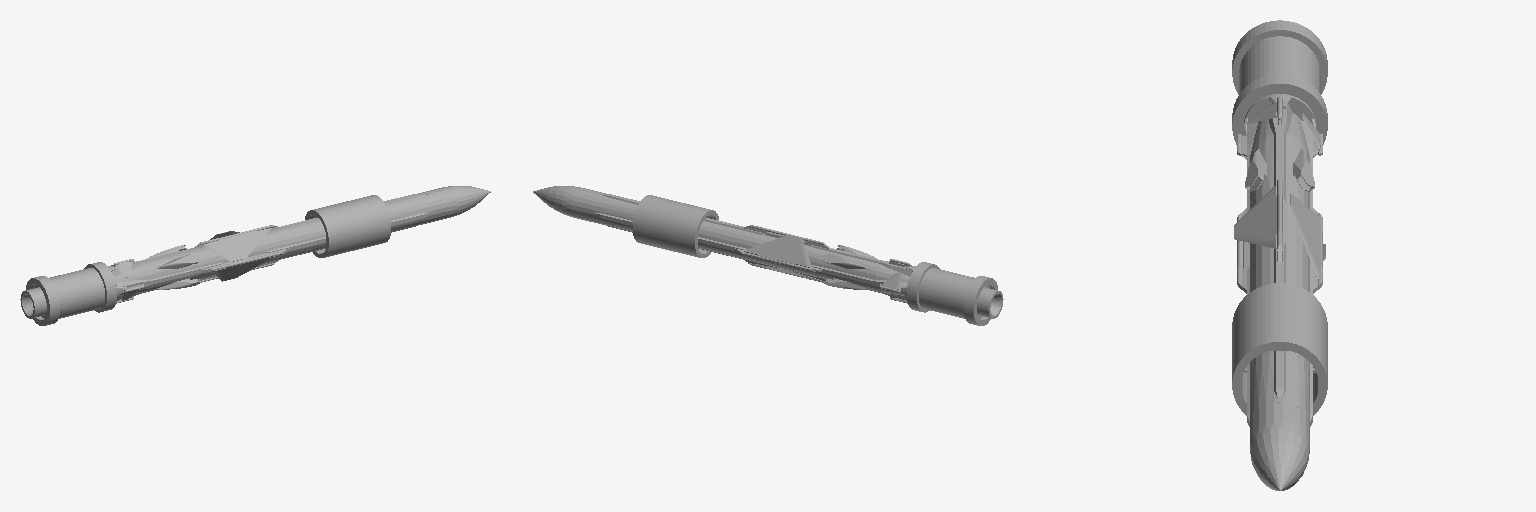
--- What the picture shows (computed from the rendered views, not written in the file) ---
The picture shows the robot from 3 angles, left to right: view 1: azimuth 30°, elevation 25°; view 2: azimuth 150°, elevation 25°; view 3: azimuth 270°, elevation 25°; orthographic projection.
Robot: exocet_mm40b3 — 18 links, 17 joints (12 revolute, 5 fixed); root link base_link; default pose: every joint at zero.
Links seen in each view (by area): view 1: base_link, Booster_1, Holder_2, Holder_1, Wing1_1, Wing1_4; view 2: base_link, Booster_1, Holder_4, Wing1_2, Holder_1; view 3: base_link, Booster_1, Holder_1, Wing1_1, Holder_2, Holder_4, Wing1_2.
Link boxes in pixels (box(x1,y1,x2,y2)): base_link: box(112, 186, 490, 299); Booster_1: box(20, 262, 126, 325); Holder_2: box(324, 210, 390, 256); Holder_1: box(308, 195, 387, 225); Wing1_1: box(204, 228, 271, 261); Wing1_4: box(212, 255, 277, 281); base_link: box(533, 186, 911, 299); Booster_1: box(899, 262, 1003, 325); Holder_4: box(633, 210, 699, 256); Wing1_2: box(744, 235, 811, 267); Holder_1: box(636, 195, 715, 225); base_link: box(1237, 103, 1322, 490); Booster_1: box(1232, 20, 1327, 157); Holder_1: box(1246, 283, 1313, 359); Wing1_1: box(1234, 184, 1282, 248); Holder_2: box(1232, 296, 1251, 414); Holder_4: box(1308, 296, 1327, 414); Wing1_2: box(1290, 193, 1322, 279).
Size in the robot's own frame: 5.95 by 0.55 by 0.55 metres.
Meshes: 18 distinct files referenced, 18 mesh visuals loaded (18 binary STL).

URDF robot description (exocet_mm40b3):
<?xml version="1.0" ?>
<!-- =================================================================================== -->
<!-- |    This document was autogenerated by xacro from src/exocet_mm40b3_description/urdf/exocet_mm40b3.xacro | -->
<!-- |    EDITING THIS FILE BY HAND IS NOT RECOMMENDED                                 | -->
<!-- =================================================================================== -->
<robot name="exocet_mm40b3">
  <material name="silver">
    <color rgba="0.700 0.700 0.700 1.000"/>
  </material>
  <transmission name="fins_fold1_tran">
    <type>transmission_interface/SimpleTransmission</type>
    <joint name="fins_fold1">
      <hardwareInterface>hardware_interface/EffortJointInterface</hardwareInterface>
    </joint>
    <actuator name="fins_fold1_actr">
      <hardwareInterface>hardware_interface/EffortJointInterface</hardwareInterface>
      <mechanicalReduction>1</mechanicalReduction>
    </actuator>
  </transmission>
  <transmission name="fins_rev1_tran">
    <type>transmission_interface/SimpleTransmission</type>
    <joint name="fins_rev1">
      <hardwareInterface>hardware_interface/EffortJointInterface</hardwareInterface>
    </joint>
    <actuator name="fins_rev1_actr">
      <hardwareInterface>hardware_interface/EffortJointInterface</hardwareInterface>
      <mechanicalReduction>1</mechanicalReduction>
    </actuator>
  </transmission>
  <transmission name="fins_fold4_tran">
    <type>transmission_interface/SimpleTransmission</type>
    <joint name="fins_fold4">
      <hardwareInterface>hardware_interface/EffortJointInterface</hardwareInterface>
    </joint>
    <actuator name="fins_fold4_actr">
      <hardwareInterface>hardware_interface/EffortJointInterface</hardwareInterface>
      <mechanicalReduction>1</mechanicalReduction>
    </actuator>
  </transmission>
  <transmission name="fins_rev4_tran">
    <type>transmission_interface/SimpleTransmission</type>
    <joint name="fins_rev4">
      <hardwareInterface>hardware_interface/EffortJointInterface</hardwareInterface>
    </joint>
    <actuator name="fins_rev4_actr">
      <hardwareInterface>hardware_interface/EffortJointInterface</hardwareInterface>
      <mechanicalReduction>1</mechanicalReduction>
    </actuator>
  </transmission>
  <transmission name="fins_fold3_tran">
    <type>transmission_interface/SimpleTransmission</type>
    <joint name="fins_fold3">
      <hardwareInterface>hardware_interface/EffortJointInterface</hardwareInterface>
    </joint>
    <actuator name="fins_fold3_actr">
      <hardwareInterface>hardware_interface/EffortJointInterface</hardwareInterface>
      <mechanicalReduction>1</mechanicalReduction>
    </actuator>
  </transmission>
  <transmission name="fins_rev3_tran">
    <type>transmission_interface/SimpleTransmission</type>
    <joint name="fins_rev3">
      <hardwareInterface>hardware_interface/EffortJointInterface</hardwareInterface>
    </joint>
    <actuator name="fins_rev3_actr">
      <hardwareInterface>hardware_interface/EffortJointInterface</hardwareInterface>
      <mechanicalReduction>1</mechanicalReduction>
    </actuator>
  </transmission>
  <transmission name="fins_fold2_tran">
    <type>transmission_interface/SimpleTransmission</type>
    <joint name="fins_fold2">
      <hardwareInterface>hardware_interface/EffortJointInterface</hardwareInterface>
    </joint>
    <actuator name="fins_fold2_actr">
      <hardwareInterface>hardware_interface/EffortJointInterface</hardwareInterface>
      <mechanicalReduction>1</mechanicalReduction>
    </actuator>
  </transmission>
  <transmission name="fins_rev2_tran">
    <type>transmission_interface/SimpleTransmission</type>
    <joint name="fins_rev2">
      <hardwareInterface>hardware_interface/EffortJointInterface</hardwareInterface>
    </joint>
    <actuator name="fins_rev2_actr">
      <hardwareInterface>hardware_interface/EffortJointInterface</hardwareInterface>
      <mechanicalReduction>1</mechanicalReduction>
    </actuator>
  </transmission>
  <transmission name="wings_fold1_tran">
    <type>transmission_interface/SimpleTransmission</type>
    <joint name="wings_fold1">
      <hardwareInterface>hardware_interface/EffortJointInterface</hardwareInterface>
    </joint>
    <actuator name="wings_fold1_actr">
      <hardwareInterface>hardware_interface/EffortJointInterface</hardwareInterface>
      <mechanicalReduction>1</mechanicalReduction>
    </actuator>
  </transmission>
  <transmission name="wings_fold2_tran">
    <type>transmission_interface/SimpleTransmission</type>
    <joint name="wings_fold2">
      <hardwareInterface>hardware_interface/EffortJointInterface</hardwareInterface>
    </joint>
    <actuator name="wings_fold2_actr">
      <hardwareInterface>hardware_interface/EffortJointInterface</hardwareInterface>
      <mechanicalReduction>1</mechanicalReduction>
    </actuator>
  </transmission>
  <transmission name="wings_fold3_tran">
    <type>transmission_interface/SimpleTransmission</type>
    <joint name="wings_fold3">
      <hardwareInterface>hardware_interface/EffortJointInterface</hardwareInterface>
    </joint>
    <actuator name="wings_fold3_actr">
      <hardwareInterface>hardware_interface/EffortJointInterface</hardwareInterface>
      <mechanicalReduction>1</mechanicalReduction>
    </actuator>
  </transmission>
  <transmission name="wings_fold4_tran">
    <type>transmission_interface/SimpleTransmission</type>
    <joint name="wings_fold4">
      <hardwareInterface>hardware_interface/EffortJointInterface</hardwareInterface>
    </joint>
    <actuator name="wings_fold4_actr">
      <hardwareInterface>hardware_interface/EffortJointInterface</hardwareInterface>
      <mechanicalReduction>1</mechanicalReduction>
    </actuator>
  </transmission>
  <!-- <gazebo>
    <plugin filename="libgazebo_ros_control.so" name="exocet_mm40b3_controller">
      <robotNamespace>exocet_mm40b3_controller</robotNamespace>
      <robotSimType>gazebo_ros_control/DefaultRobotHWSim</robotSimType>
    </plugin>
  </gazebo> -->
  <gazebo reference="base_link">
    <material>Gazebo/Silver</material>
    <mu1>0.2</mu1>
    <mu2>0.2</mu2>
    <selfCollide>true</selfCollide>
    <gravity>true</gravity>
  </gazebo>
  <gazebo reference="Fin_1">
    <material>Gazebo/Silver</material>
    <mu1>0.2</mu1>
    <mu2>0.2</mu2>
    <selfCollide>true</selfCollide>
  </gazebo>
  <gazebo reference="FinHolder_1">
    <material>Gazebo/Silver</material>
    <mu1>0.2</mu1>
    <mu2>0.2</mu2>
    <selfCollide>true</selfCollide>
  </gazebo>
  <gazebo reference="Fin_4">
    <material>Gazebo/Silver</material>
    <mu1>0.2</mu1>
    <mu2>0.2</mu2>
    <selfCollide>true</selfCollide>
  </gazebo>
  <gazebo reference="FinHolder_4">
    <material>Gazebo/Silver</material>
    <mu1>0.2</mu1>
    <mu2>0.2</mu2>
    <selfCollide>true</selfCollide>
  </gazebo>
  <gazebo reference="Fin_3">
    <material>Gazebo/Silver</material>
    <mu1>0.2</mu1>
    <mu2>0.2</mu2>
    <selfCollide>true</selfCollide>
  </gazebo>
  <gazebo reference="FinHolder_3">
    <material>Gazebo/Silver</material>
    <mu1>0.2</mu1>
    <mu2>0.2</mu2>
    <selfCollide>true</selfCollide>
  </gazebo>
  <gazebo reference="Fin_2">
    <material>Gazebo/Silver</material>
    <mu1>0.2</mu1>
    <mu2>0.2</mu2>
    <selfCollide>true</selfCollide>
  </gazebo>
  <gazebo reference="FinHolder_2">
    <material>Gazebo/Silver</material>
    <mu1>0.2</mu1>
    <mu2>0.2</mu2>
    <selfCollide>true</selfCollide>
  </gazebo>
  <gazebo reference="Wing1_1">
    <material>Gazebo/Silver</material>
    <mu1>0.2</mu1>
    <mu2>0.2</mu2>
    <selfCollide>true</selfCollide>
  </gazebo>
  <gazebo reference="Booster_1">
    <material>Gazebo/Silver</material>
    <mu1>0.2</mu1>
    <mu2>0.2</mu2>
    <selfCollide>true</selfCollide>
  </gazebo>
  <gazebo reference="Wing1_2">
    <material>Gazebo/Silver</material>
    <mu1>0.2</mu1>
    <mu2>0.2</mu2>
    <selfCollide>true</selfCollide>
  </gazebo>
  <gazebo reference="Wing1_3">
    <material>Gazebo/Silver</material>
    <mu1>0.2</mu1>
    <mu2>0.2</mu2>
    <selfCollide>true</selfCollide>
  </gazebo>
  <gazebo reference="Wing1_4">
    <material>Gazebo/Silver</material>
    <mu1>0.2</mu1>
    <mu2>0.2</mu2>
    <selfCollide>true</selfCollide>
  </gazebo>
  <gazebo reference="Holder_1">
    <material>Gazebo/Silver</material>
    <mu1>0.2</mu1>
    <mu2>0.2</mu2>
    <!-- <selfCollide>true</selfCollide> -->
    <selfCollide>false</selfCollide>
  </gazebo>
  <gazebo reference="Holder_2">
    <material>Gazebo/Silver</material>
    <mu1>0.2</mu1>
    <mu2>0.2</mu2>
    <!-- <selfCollide>true</selfCollide> -->
    <selfCollide>false</selfCollide>
  </gazebo>
  <gazebo reference="Holder_3">
    <material>Gazebo/Silver</material>
    <mu1>0.2</mu1>
    <mu2>0.2</mu2>
    <!-- <selfCollide>true</selfCollide> -->
    <selfCollide>false</selfCollide>
  </gazebo>
  <gazebo reference="Holder_4">
    <material>Gazebo/Silver</material>
    <mu1>0.2</mu1>
    <mu2>0.2</mu2>
    <!-- <selfCollide>true</selfCollide> -->
    <selfCollide>false</selfCollide>
  </gazebo>
  <gazebo reference="booster_fixing">
    <preserveFixedJoint>true</preserveFixedJoint>
  </gazebo>
  <gazebo reference="HolderJoint1">
    <preserveFixedJoint>true</preserveFixedJoint>
  </gazebo>
  <gazebo reference="HolderJoint2">
    <preserveFixedJoint>true</preserveFixedJoint>
  </gazebo>
  <gazebo reference="HolderJoint3">
    <preserveFixedJoint>true</preserveFixedJoint>
  </gazebo>
  <gazebo reference="HolderJoint4">
    <preserveFixedJoint>true</preserveFixedJoint>
  </gazebo>
  <link name="base_link">
    <inertial>
      <origin rpy="0 0 0" xyz="0.6111487363868037 -9.76514281557685e-10 9.765135572714681e-10"/>
      <mass value="564.9695328358481"/>
      <inertia ixx="13.560396" ixy="-0.0" ixz="0.0" iyy="1088.286862" iyz="0.0" izz="1088.286862"/>
    </inertial>
    <visual>
      <origin rpy="0 0 0" xyz="0 0 0"/>
      <geometry>
        <mesh filename="package://exocet_mm40b3_description/meshes/base_link.stl" scale="0.001 0.001 0.001"/>
      </geometry>
      <material name="silver"/>
    </visual>
    <collision>
      <origin rpy="0 0 0" xyz="0 0 0"/>
      <geometry>
        <mesh filename="package://exocet_mm40b3_description/meshes/base_link.stl" scale="0.001 0.001 0.001"/>
      </geometry>
    </collision>
  </link>
  <link name="Fin_1">
    <inertial>
      <origin rpy="0 0 0" xyz="-0.01567003850913462 -0.05105851626061409 -0.03315778654302706"/>
      <mass value="1.1914641784690367"/>
      <inertia ixx="0.003045" ixy="-0.000707" ixz="-0.000459" iyy="0.003419" iyz="-0.00136" izz="0.004631"/>
    </inertial>
    <visual>
      <origin rpy="0 0 0" xyz="1.508834 0.0 -0.235"/>
      <geometry>
        <mesh filename="package://exocet_mm40b3_description/meshes/Fin_1.stl" scale="0.001 0.001 0.001"/>
      </geometry>
      <material name="silver"/>
    </visual>
    <collision>
      <origin rpy="0 0 0" xyz="1.508834 0.0 -0.235"/>
      <geometry>
        <mesh filename="package://exocet_mm40b3_description/meshes/Fin_1.stl" scale="0.001 0.001 0.001"/>
      </geometry>
    </collision>
  </link>
  <link name="FinHolder_1">
    <inertial>
      <origin rpy="0 0 0" xyz="0.011989934287514492 3.4948123536970334e-06 0.035203705025338594"/>
      <mass value="0.6136418967408529"/>
      <inertia ixx="0.000219" ixy="-0.0" ixz="3.8e-05" iyy="0.004162" iyz="-0.0" izz="0.003989"/>
    </inertial>
    <visual>
      <origin rpy="0 0 0" xyz="1.508834 0.0 -0.18"/>
      <geometry>
        <mesh filename="package://exocet_mm40b3_description/meshes/FinHolder_1.stl" scale="0.001 0.001 0.001"/>
      </geometry>
      <material name="silver"/>
    </visual>
    <collision>
      <origin rpy="0 0 0" xyz="1.508834 0.0 -0.18"/>
      <geometry>
        <mesh filename="package://exocet_mm40b3_description/meshes/FinHolder_1.stl" scale="0.001 0.001 0.001"/>
      </geometry>
    </collision>
  </link>
  <link name="Fin_4">
    <inertial>
      <origin rpy="0 0 0" xyz="-0.01567003850913462 0.03315778654302701 -0.05105851430757993"/>
      <mass value="1.1914641784690367"/>
      <inertia ixx="0.003045" ixy="0.000459" ixz="-0.000707" iyy="0.004631" iyz="0.00136" izz="0.003419"/>
    </inertial>
    <visual>
      <origin rpy="0 0 0" xyz="1.508834 0.235 -0.0"/>
      <geometry>
        <mesh filename="package://exocet_mm40b3_description/meshes/Fin_4.stl" scale="0.001 0.001 0.001"/>
      </geometry>
      <material name="silver"/>
    </visual>
    <collision>
      <origin rpy="0 0 0" xyz="1.508834 0.235 -0.0"/>
      <geometry>
        <mesh filename="package://exocet_mm40b3_description/meshes/Fin_4.stl" scale="0.001 0.001 0.001"/>
      </geometry>
    </collision>
  </link>
  <link name="FinHolder_4">
    <inertial>
      <origin rpy="0 0 0" xyz="0.011989934287514492 -0.03520370502533865 3.4967653878920464e-06"/>
      <mass value="0.6136418967408529"/>
      <inertia ixx="0.000219" ixy="-3.8e-05" ixz="-0.0" iyy="0.003989" iyz="0.0" izz="0.004162"/>
    </inertial>
    <visual>
      <origin rpy="0 0 0" xyz="1.508834 0.18 -0.0"/>
      <geometry>
        <mesh filename="package://exocet_mm40b3_description/meshes/FinHolder_4.stl" scale="0.001 0.001 0.001"/>
      </geometry>
      <material name="silver"/>
    </visual>
    <collision>
      <origin rpy="0 0 0" xyz="1.508834 0.18 -0.0"/>
      <geometry>
        <mesh filename="package://exocet_mm40b3_description/meshes/FinHolder_4.stl" scale="0.001 0.001 0.001"/>
      </geometry>
    </collision>
  </link>
  <link name="Fin_3">
    <inertial>
      <origin rpy="0 0 0" xyz="-0.015670038509135065 0.05105822037918793 0.033157788496061325"/>
      <mass value="1.1914641784690367"/>
      <inertia ixx="0.003045" ixy="0.000707" ixz="0.000459" iyy="0.003419" iyz="-0.00136" izz="0.004631"/>
    </inertial>
    <visual>
      <origin rpy="0 0 0" xyz="1.508834 1.7e-05 0.235"/>
      <geometry>
        <mesh filename="package://exocet_mm40b3_description/meshes/Fin_3.stl" scale="0.001 0.001 0.001"/>
      </geometry>
      <material name="silver"/>
    </visual>
    <collision>
      <origin rpy="0 0 0" xyz="1.508834 1.7e-05 0.235"/>
      <geometry>
        <mesh filename="package://exocet_mm40b3_description/meshes/Fin_3.stl" scale="0.001 0.001 0.001"/>
      </geometry>
    </collision>
  </link>
  <link name="FinHolder_3">
    <inertial>
      <origin rpy="0 0 0" xyz="0.011989934287514492 -3.496765387940896e-06 -0.03520370307230428"/>
      <mass value="0.6136418967408529"/>
      <inertia ixx="0.000219" ixy="0.0" ixz="-3.8e-05" iyy="0.004162" iyz="-0.0" izz="0.003989"/>
    </inertial>
    <visual>
      <origin rpy="0 0 0" xyz="1.508834 0.0 0.18"/>
      <geometry>
        <mesh filename="package://exocet_mm40b3_description/meshes/FinHolder_3.stl" scale="0.001 0.001 0.001"/>
      </geometry>
      <material name="silver"/>
    </visual>
    <collision>
      <origin rpy="0 0 0" xyz="1.508834 0.0 0.18"/>
      <geometry>
        <mesh filename="package://exocet_mm40b3_description/meshes/FinHolder_3.stl" scale="0.001 0.001 0.001"/>
      </geometry>
    </collision>
  </link>
  <link name="Fin_2">
    <inertial>
      <origin rpy="0 0 0" xyz="-0.01567003850913551 -0.033157788496061325 0.051058222332222306"/>
      <mass value="1.1914641784690367"/>
      <inertia ixx="0.003045" ixy="-0.000459" ixz="0.000707" iyy="0.004631" iyz="0.00136" izz="0.003419"/>
    </inertial>
    <visual>
      <origin rpy="0 0 0" xyz="1.508834 -0.235 1.7e-05"/>
      <geometry>
        <mesh filename="package://exocet_mm40b3_description/meshes/Fin_2.stl" scale="0.001 0.001 0.001"/>
      </geometry>
      <material name="silver"/>
    </visual>
    <collision>
      <origin rpy="0 0 0" xyz="1.508834 -0.235 1.7e-05"/>
      <geometry>
        <mesh filename="package://exocet_mm40b3_description/meshes/Fin_2.stl" scale="0.001 0.001 0.001"/>
      </geometry>
    </collision>
  </link>
  <link name="FinHolder_2">
    <inertial>
      <origin rpy="0 0 0" xyz="0.011989934287514048 0.035203703072304304 -3.4948123536082156e-06"/>
      <mass value="0.6136418967408529"/>
      <inertia ixx="0.000219" ixy="3.8e-05" ixz="0.0" iyy="0.003989" iyz="0.0" izz="0.004162"/>
    </inertial>
    <visual>
      <origin rpy="0 0 0" xyz="1.508834 -0.18 -0.0"/>
      <geometry>
        <mesh filename="package://exocet_mm40b3_description/meshes/FinHolder_2.stl" scale="0.001 0.001 0.001"/>
      </geometry>
      <material name="silver"/>
    </visual>
    <collision>
      <origin rpy="0 0 0" xyz="1.508834 -0.18 -0.0"/>
      <geometry>
        <mesh filename="package://exocet_mm40b3_description/meshes/FinHolder_2.stl" scale="0.001 0.001 0.001"/>
      </geometry>
    </collision>
  </link>
  <link name="Wing1_1">
    <inertial>
      <origin rpy="0 0 0" xyz="-0.040666207659852904 -0.08074492818224165 -0.05243595001666804"/>
      <mass value="7.941525705671461"/>
      <inertia ixx="0.045859" ixy="-0.016465" ixz="-0.010693" iyy="0.280396" iyz="-0.020713" izz="0.29884"/>
    </inertial>
    <visual>
      <origin rpy="0 0 0" xyz="0.055606 0.0 -0.231018"/>
      <geometry>
        <mesh filename="package://exocet_mm40b3_description/meshes/Wing1_1.stl" scale="0.001 0.001 0.001"/>
      </geometry>
      <material name="silver"/>
    </visual>
    <collision>
      <origin rpy="0 0 0" xyz="0.055606 0.0 -0.231018"/>
      <geometry>
        <mesh filename="package://exocet_mm40b3_description/meshes/Wing1_1.stl" scale="0.001 0.001 0.001"/>
      </geometry>
    </collision>
  </link>
  <link name="Booster_1">
    <inertial>
      <origin rpy="0 0 0" xyz="-0.5309883305776795 4.1152716735485273e-10 1.8088332072416784e-09"/>
      <mass value="138.76341026969325"/>
      <inertia ixx="6.064544" ixy="-0.0" ixz="-0.0" iyy="17.450475" iyz="0.0" izz="17.450475"/>
    </inertial>
    <visual>
      <origin rpy="0 0 0" xyz="1.688846 0.0 -0.0"/>
      <geometry>
        <mesh filename="package://exocet_mm40b3_description/meshes/Booster_1.stl" scale="0.001 0.001 0.001"/>
      </geometry>
      <material name="silver"/>
    </visual>
    <collision>
      <origin rpy="0 0 0" xyz="1.688846 0.0 -0.0"/>
      <geometry>
        <mesh filename="package://exocet_mm40b3_description/meshes/Booster_1.stl" scale="0.001 0.001 0.001"/>
      </geometry>
    </collision>
  </link>
  <link name="Wing1_2">
    <inertial>
      <origin rpy="0 0 0" xyz="-0.040666207659852974 -0.05189131293468413 0.07990625761429629"/>
      <mass value="7.941525705671461"/>
      <inertia ixx="0.045859" ixy="-0.010693" ixz="0.016465" iyy="0.29884" iyz="0.020713" izz="0.280396"/>
    </inertial>
    <visual>
      <origin rpy="0 0 0" xyz="0.055606 -0.231018 -0.0"/>
      <geometry>
        <mesh filename="package://exocet_mm40b3_description/meshes/Wing1_2.stl" scale="0.001 0.001 0.001"/>
      </geometry>
      <material name="silver"/>
    </visual>
    <collision>
      <origin rpy="0 0 0" xyz="0.055606 -0.231018 -0.0"/>
      <geometry>
        <mesh filename="package://exocet_mm40b3_description/meshes/Wing1_2.stl" scale="0.001 0.001 0.001"/>
      </geometry>
    </collision>
  </link>
  <link name="Wing1_3">
    <inertial>
      <origin rpy="0 0 0" xyz="-0.04066620765985304 0.07990625566126518 0.05189131293468455"/>
      <mass value="7.941525705671461"/>
      <inertia ixx="0.045859" ixy="0.016465" ixz="0.010693" iyy="0.280396" iyz="-0.020713" izz="0.29884"/>
    </inertial>
    <visual>
      <origin rpy="0 0 0" xyz="0.055606 0.0 0.231018"/>
      <geometry>
        <mesh filename="package://exocet_mm40b3_description/meshes/Wing1_3.stl" scale="0.001 0.001 0.001"/>
      </geometry>
      <material name="silver"/>
    </visual>
    <collision>
      <origin rpy="0 0 0" xyz="0.055606 0.0 0.231018"/>
      <geometry>
        <mesh filename="package://exocet_mm40b3_description/meshes/Wing1_3.stl" scale="0.001 0.001 0.001"/>
      </geometry>
    </collision>
  </link>
  <link name="Wing1_4">
    <inertial>
      <origin rpy="0 0 0" xyz="-0.04066620765985225 0.05189131098165295 -0.07990625566126565"/>
      <mass value="7.941525705671461"/>
      <inertia ixx="0.045859" ixy="0.010693" ixz="-0.016465" iyy="0.29884" iyz="0.020713" izz="0.280396"/>
    </inertial>
    <visual>
      <origin rpy="0 0 0" xyz="0.055606 0.231018 -0.0"/>
      <geometry>
        <mesh filename="package://exocet_mm40b3_description/meshes/Wing1_4.stl" scale="0.001 0.001 0.001"/>
      </geometry>
      <material name="silver"/>
    </visual>
    <collision>
      <origin rpy="0 0 0" xyz="0.055606 0.231018 -0.0"/>
      <geometry>
        <mesh filename="package://exocet_mm40b3_description/meshes/Wing1_4.stl" scale="0.001 0.001 0.001"/>
      </geometry>
    </collision>
  </link>
  <link name="Holder_1">
    <inertial>
      <origin rpy="0 0 0" xyz="-0.1999999917328794 -9.765093429786492e-10 0.03551866363101741"/>
      <mass value="12.2115195694117"/>
      <inertia ixx="0.166572" ixy="-0.0" ixz="-0.0" iyy="0.702777" iyz="-0.0" izz="0.847629"/>
    </inertial>
    <visual>
      <origin rpy="0 0 0" xyz="-1.567625 0.0 -0.187374"/>
      <geometry>
        <mesh filename="package://exocet_mm40b3_description/meshes/Holder_1.stl" scale="0.001 0.001 0.001"/>
      </geometry>
      <material name="silver"/>
    </visual>
    <collision>
      <origin rpy="0 0 0" xyz="-1.567625 0.0 -0.187374"/>
      <geometry>
        <mesh filename="package://exocet_mm40b3_description/meshes/Holder_1.stl" scale="0.001 0.001 0.001"/>
      </geometry>
    </collision>
  </link>
  <link name="Holder_2">
    <inertial>
      <origin rpy="0 0 0" xyz="-0.1999999917328794 -0.03551866363101741 -9.765093293304098e-10"/>
      <mass value="12.2115195694117"/>
      <inertia ixx="0.166572" ixy="0.0" ixz="-0.0" iyy="0.847629" iyz="0.0" izz="0.702777"/>
    </inertial>
    <visual>
      <origin rpy="0 0 0" xyz="-1.567625 0.187374 -0.0"/>
      <geometry>
        <mesh filename="package://exocet_mm40b3_description/meshes/Holder_2.stl" scale="0.001 0.001 0.001"/>
      </geometry>
      <material name="silver"/>
    </visual>
    <collision>
      <origin rpy="0 0 0" xyz="-1.567625 0.187374 -0.0"/>
      <geometry>
        <mesh filename="package://exocet_mm40b3_description/meshes/Holder_2.stl" scale="0.001 0.001 0.001"/>
      </geometry>
    </collision>
  </link>
  <link name="Holder_3">
    <inertial>
      <origin rpy="0 0 0" xyz="-0.1999999917328794 9.765093156821704e-10 -0.03551866363101741"/>
      <mass value="12.2115195694117"/>
      <inertia ixx="0.166572" ixy="0.0" ixz="0.0" iyy="0.702777" iyz="-0.0" izz="0.847629"/>
    </inertial>
    <visual>
      <origin rpy="0 0 0" xyz="-1.567625 0.0 0.187374"/>
      <geometry>
        <mesh filename="package://exocet_mm40b3_description/meshes/Holder_3.stl" scale="0.001 0.001 0.001"/>
      </geometry>
      <material name="silver"/>
    </visual>
    <collision>
      <origin rpy="0 0 0" xyz="-1.567625 0.0 0.187374"/>
      <geometry>
        <mesh filename="package://exocet_mm40b3_description/meshes/Holder_3.stl" scale="0.001 0.001 0.001"/>
      </geometry>
    </collision>
  </link>
  <link name="Holder_4">
    <inertial>
      <origin rpy="0 0 0" xyz="-0.1999999917328794 0.03551866363101741 9.765093020339312e-10"/>
      <mass value="12.2115195694117"/>
      <inertia ixx="0.166572" ixy="-0.0" ixz="0.0" iyy="0.847629" iyz="0.0" izz="0.702777"/>
    </inertial>
    <visual>
      <origin rpy="0 0 0" xyz="-1.567625 -0.187374 -0.0"/>
      <geometry>
        <mesh filename="package://exocet_mm40b3_description/meshes/Holder_4.stl" scale="0.001 0.001 0.001"/>
      </geometry>
      <material name="silver"/>
    </visual>
    <collision>
      <origin rpy="0 0 0" xyz="-1.567625 -0.187374 -0.0"/>
      <geometry>
        <mesh filename="package://exocet_mm40b3_description/meshes/Holder_4.stl" scale="0.001 0.001 0.001"/>
      </geometry>
    </collision>
  </link>
  <joint name="fins_fold1" type="revolute">
    <origin rpy="0 0 0" xyz="0.0 0.0 0.055"/>
    <parent link="FinHolder_1"/>
    <child link="Fin_1"/>
    <axis xyz="-1.0 0.0 -0.0"/>
    <limit effort="100" lower="0.0" upper="2.146755" velocity="100"/>
  </joint>
  <joint name="fins_rev1" type="revolute">
    <origin rpy="0 0 0" xyz="-1.508834 0.0 0.18"/>
    <parent link="base_link"/>
    <child link="FinHolder_1"/>
    <axis xyz="-0.0 -0.0 1.0"/>
    <limit effort="100" lower="-0.349066" upper="0.349066" velocity="100"/>
  </joint>
  <joint name="fins_fold4" type="revolute">
    <origin rpy="0 0 0" xyz="0.0 -0.055 0.0"/>
    <parent link="FinHolder_4"/>
    <child link="Fin_4"/>
    <axis xyz="-1.0 0.0 0.0"/>
    <limit effort="100" lower="0.0" upper="2.146755" velocity="100"/>
  </joint>
  <joint name="fins_rev4" type="revolute">
    <origin rpy="0 0 0" xyz="-1.508834 -0.18 0.0"/>
    <parent link="base_link"/>
    <child link="FinHolder_4"/>
    <axis xyz="-0.0 -1.0 -0.0"/>
    <limit effort="100" lower="-0.349066" upper="0.349066" velocity="100"/>
  </joint>
  <joint name="fins_fold3" type="revolute">
    <origin rpy="0 0 0" xyz="0.0 -1.7e-05 -0.055"/>
    <parent link="FinHolder_3"/>
    <child link="Fin_3"/>
    <axis xyz="-1.0 0.0 -0.0"/>
    <limit effort="100" lower="0.0" upper="2.146755" velocity="100"/>
  </joint>
  <joint name="fins_rev3" type="revolute">
    <origin rpy="0 0 0" xyz="-1.508834 0.0 -0.18"/>
    <parent link="base_link"/>
    <child link="FinHolder_3"/>
    <axis xyz="-0.0 0.0 -1.0"/>
    <limit effort="100" lower="-0.349066" upper="0.349066" velocity="100"/>
  </joint>
  <joint name="fins_fold2" type="revolute">
    <origin rpy="0 0 0" xyz="0.0 0.055 -1.7e-05"/>
    <parent link="FinHolder_2"/>
    <child link="Fin_2"/>
    <axis xyz="-1.0 0.0 0.0"/>
    <limit effort="100" lower="0.0" upper="2.146755" velocity="100"/>
  </joint>
  <joint name="fins_rev2" type="revolute">
    <origin rpy="0 0 0" xyz="-1.508834 0.18 0.0"/>
    <parent link="base_link"/>
    <child link="FinHolder_2"/>
    <axis xyz="-0.0 1.0 0.0"/>
    <limit effort="100" lower="-0.349066" upper="0.349066" velocity="100"/>
  </joint>
  <joint name="wings_fold1" type="revolute">
    <origin rpy="0 0 0" xyz="-0.055606 0.0 0.231018"/>
    <parent link="base_link"/>
    <child link="Wing1_1"/>
    <axis xyz="1.0 0.0 -0.0"/>
    <limit effort="100" lower="-2.146755" upper="0.0" velocity="100"/>
  </joint>
  <joint name="booster_fixing" type="fixed">
    <origin rpy="0 0 0" xyz="-1.688846 0.0 0.0"/>
    <parent link="base_link"/>
    <child link="Booster_1"/>
  </joint>
  <joint name="wings_fold2" type="revolute">
    <origin rpy="0 0 0" xyz="-0.055606 0.231018 0.0"/>
    <parent link="base_link"/>
    <child link="Wing1_2"/>
    <axis xyz="1.0 0.0 -0.0"/>
    <limit effort="100" lower="-2.146755" upper="0.0" velocity="100"/>
  </joint>
  <joint name="wings_fold3" type="revolute">
    <origin rpy="0 0 0" xyz="-0.055606 0.0 -0.231018"/>
    <parent link="base_link"/>
    <child link="Wing1_3"/>
    <axis xyz="1.0 0.0 -0.0"/>
    <limit effort="100" lower="-2.146755" upper="0.0" velocity="100"/>
  </joint>
  <joint name="wings_fold4" type="revolute">
    <origin rpy="0 0 0" xyz="-0.055606 -0.231018 0.0"/>
    <parent link="base_link"/>
    <child link="Wing1_4"/>
    <axis xyz="1.0 0.0 -0.0"/>
    <limit effort="100" lower="-2.146755" upper="0.0" velocity="100"/>
  </joint>
  <joint name="HolderJoint1" type="fixed">
    <origin rpy="0 0 0" xyz="1.567625 0.0 0.187374"/>
    <parent link="base_link"/>
    <child link="Holder_1"/>
  </joint>
  <joint name="HolderJoint2" type="fixed">
    <origin rpy="0 0 0" xyz="1.567625 -0.187374 0.0"/>
    <parent link="base_link"/>
    <child link="Holder_2"/>
  </joint>
  <joint name="HolderJoint3" type="fixed">
    <origin rpy="0 0 0" xyz="1.567625 0.0 -0.187374"/>
    <parent link="base_link"/>
    <child link="Holder_3"/>
  </joint>
  <joint name="HolderJoint4" type="fixed">
    <origin rpy="0 0 0" xyz="1.567625 0.187374 0.0"/>
    <parent link="base_link"/>
    <child link="Holder_4"/>
  </joint>
</robot>
